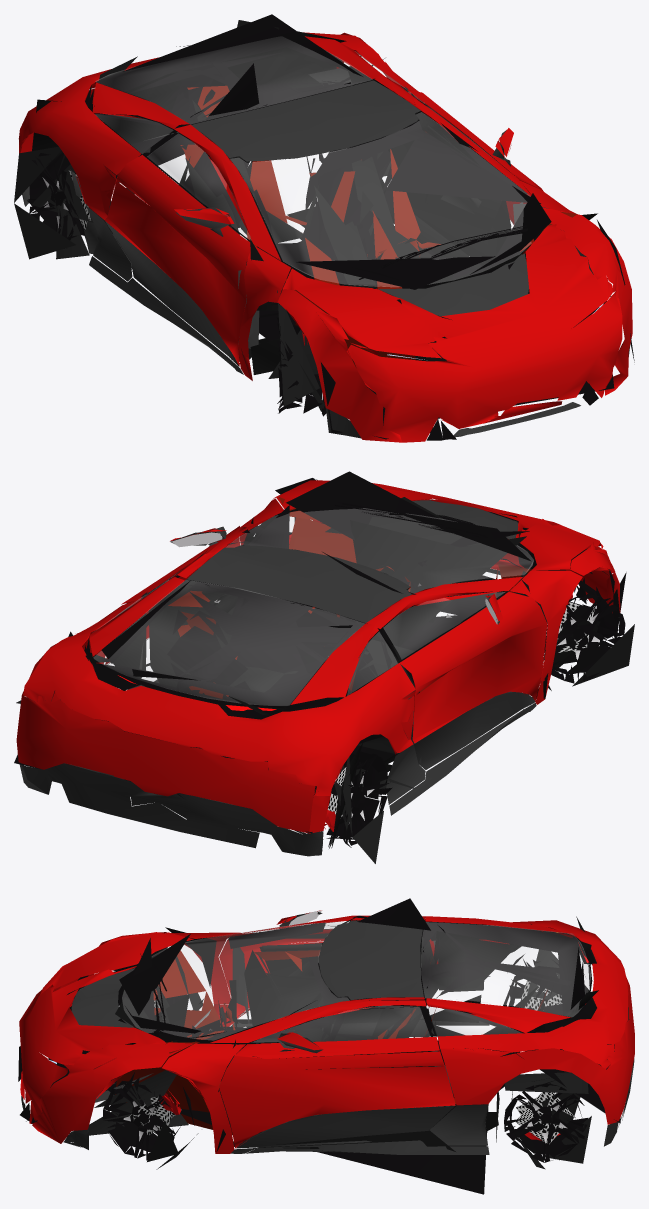
File: trafico-concept.glb
3 renders of one model, top to bottom at view 1: azimuth 30°, elevation 25°; view 2: azimuth 150°, elevation 25°; view 3: azimuth 270°, elevation 25°, orthographic. The views are drawn at different scales.
Parts seen in each view (by area): view 1: BodyHood, BodyWindshield, BodyDoorRColor1, BodyRearPanelsColor1, BodyRearwindow, BodyRoofPanel, BodyWindshieldGasket, BodyPillars, InteriorRearHatch, InteriorPillar, InteriorSeatsColor2, InteriorRearPanels (+20 smaller); view 2: BodyRearPanelsColor1, BodyRearwindow, BodyPanelsColor2, BodyWindshield, BodyDoorRColor1, BodyRoofPanel, InteriorDashMid, BodyWindshieldGasket, BodyPillars, BodyHood, InteriorFloor, InteriorRearHatch (+21 smaller); view 3: BodyRearPanelsColor1, BodyDoorLColor1, BodyHood, BodyWindshield, BodyRearwindow, BodyPillars, BodyRoofPanel, InteriorFloor, BodyPanelsColor2, InteriorDoorR01, BodyDoorLColor2, InteriorRearHatch (+27 smaller).
Boxes of the visible parts, box(x1,y1,x2,y2) form: BodyHood: box(278, 207, 632, 442); BodyWindshield: box(230, 112, 530, 286); BodyDoorRColor1: box(105, 155, 250, 366); BodyRearPanelsColor1: box(18, 32, 423, 220); BodyRearwindow: box(95, 36, 371, 123); BodyRoofPanel: box(191, 80, 420, 161); BodyWindshieldGasket: box(296, 130, 551, 289); BodyPillars: box(174, 75, 575, 380); InteriorRearHatch: box(95, 14, 373, 128); InteriorPillar: box(165, 57, 424, 285); InteriorSeatsColor2: box(179, 100, 433, 303); InteriorRearPanels: box(32, 20, 403, 194); BodyRearPanelsColor1: box(16, 577, 415, 833); BodyRearwindow: box(94, 580, 364, 705); BodyPanelsColor2: box(19, 568, 619, 856); BodyWindshield: box(226, 508, 533, 592); BodyDoorRColor1: box(400, 592, 547, 743); BodyRoofPanel: box(186, 545, 411, 622); InteriorDashMid: box(325, 497, 526, 646); BodyWindshieldGasket: box(248, 471, 531, 561); BodyPillars: box(171, 498, 582, 704); BodyHood: box(272, 480, 620, 613); InteriorFloor: box(14, 523, 596, 846); InteriorRearHatch: box(95, 580, 370, 712); BodyRearPanelsColor1: box(425, 916, 634, 1124); BodyDoorLColor1: box(219, 1037, 455, 1148); BodyHood: box(19, 932, 193, 1143); BodyWindshield: box(122, 921, 348, 1040); BodyRearwindow: box(421, 922, 590, 1016); BodyPillars: box(162, 915, 426, 1153); BodyRoofPanel: box(318, 920, 423, 1000); InteriorFloor: box(31, 999, 620, 1194); BodyPanelsColor2: box(21, 990, 634, 1154); InteriorDoorR01: box(232, 933, 438, 1026); BodyDoorLColor2: box(236, 1105, 455, 1148); InteriorRearHatch: box(423, 921, 585, 1032).
Bounding box in the file's own units: 2.7 × 1.7 × 4.38.
Materials: 22 (5 with a texture image).
